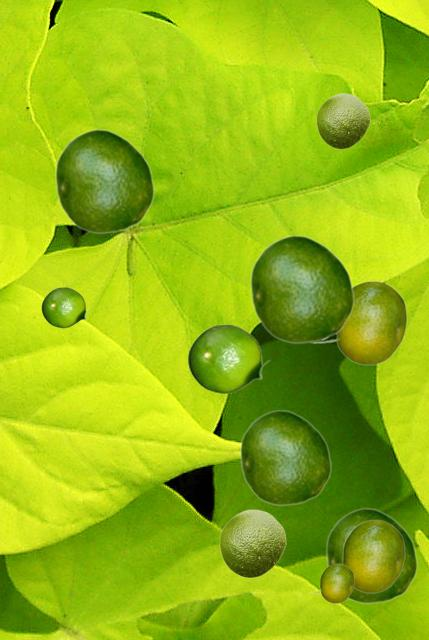calamansi: (249, 234, 354, 343), (54, 128, 154, 233), (325, 507, 417, 603), (239, 409, 331, 505), (312, 280, 406, 364), (321, 519, 404, 592), (187, 324, 270, 393), (219, 509, 285, 577), (316, 93, 369, 148), (41, 287, 90, 327), (308, 563, 353, 602)
